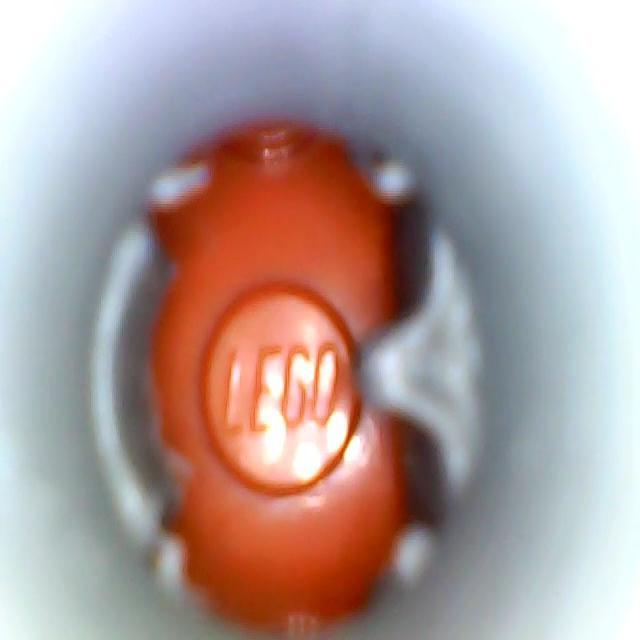studs: (202, 287, 359, 493)
